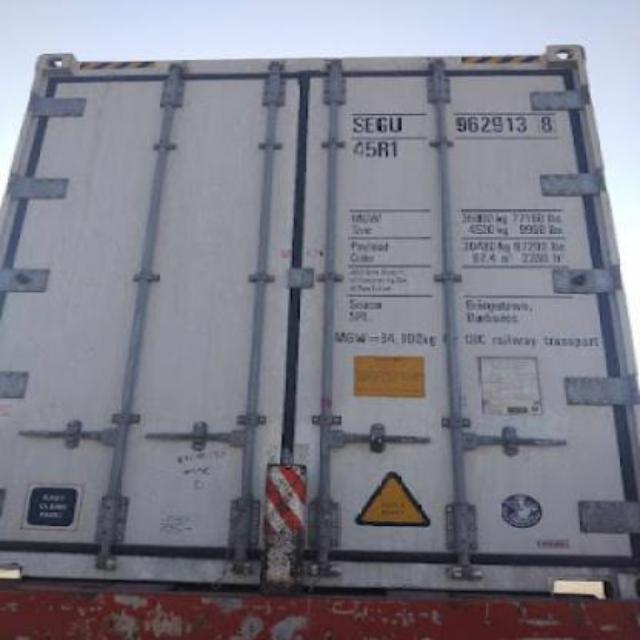1: (506, 116, 516, 132)
2: (481, 116, 494, 134)
3: (516, 114, 530, 132)
6: (468, 116, 480, 134)
8: (540, 116, 552, 132)
9: (492, 116, 506, 134), (456, 116, 468, 134)
E: (364, 116, 378, 134)
G: (376, 116, 389, 132)
S: (352, 114, 364, 134)
U: (388, 116, 404, 134)
